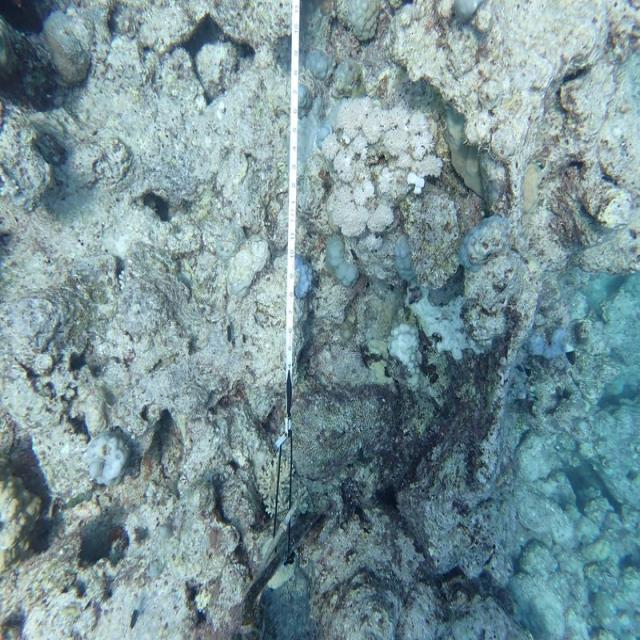Bleached Coral: (383, 285, 485, 379), (68, 416, 147, 499)
